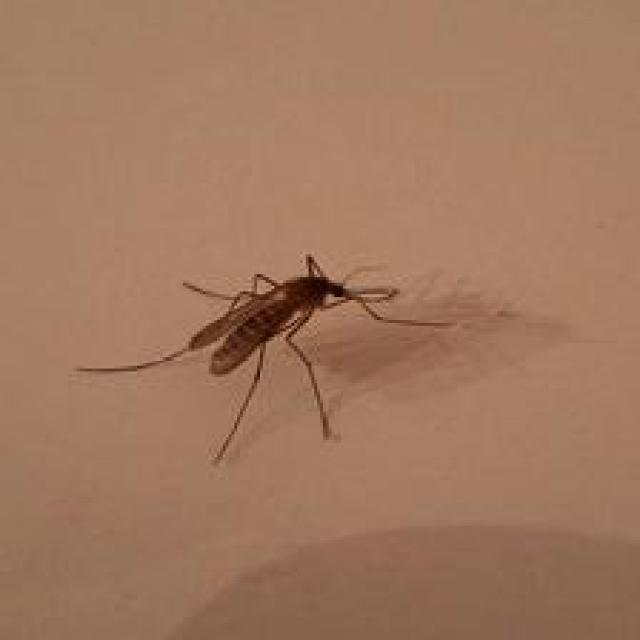Culex: (73, 250, 456, 464)
